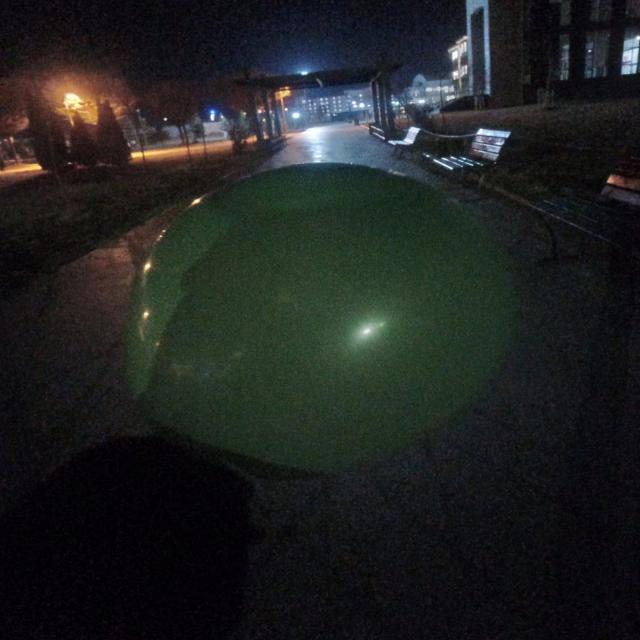balloon: (127, 163, 517, 472)
